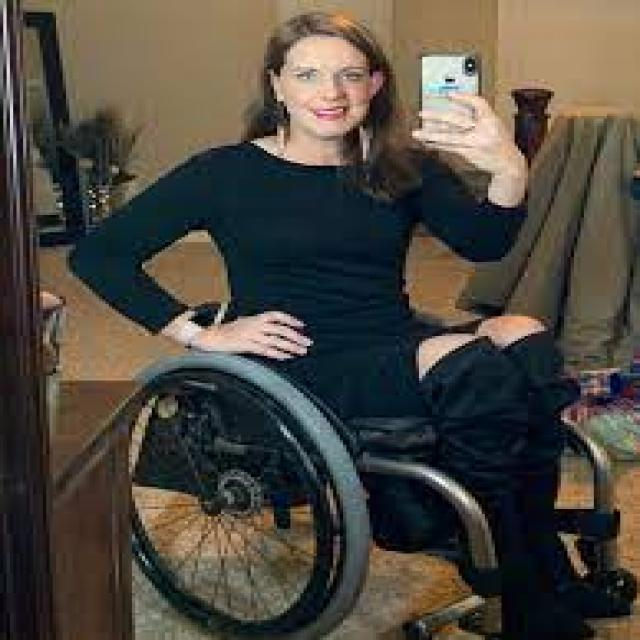wheelchairs: (66, 181, 640, 640)
